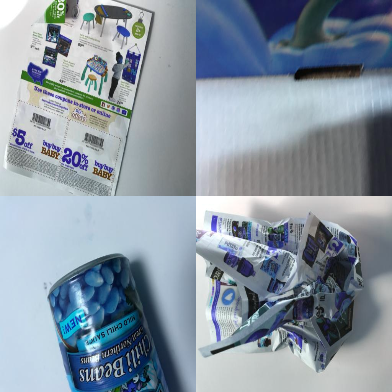cardboard: (195, 1, 391, 194)
metal: (46, 253, 173, 391)
paper: (1, 1, 153, 196), (196, 208, 364, 372)
